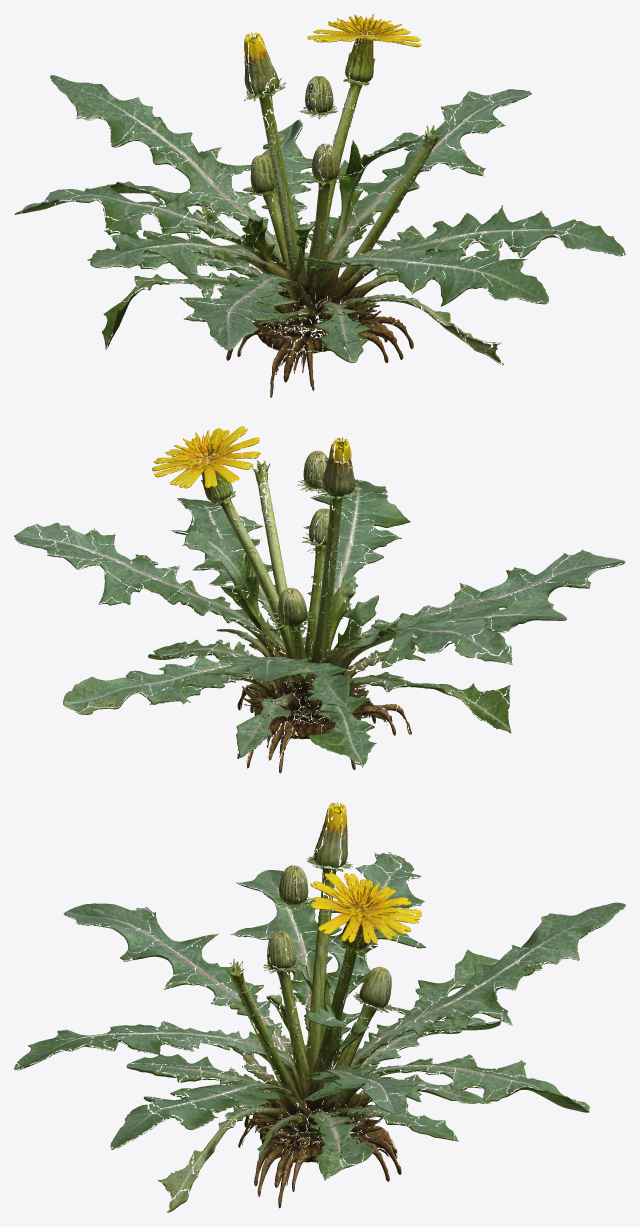
File: hiwa.glb
3 views of the same model, one above another, from view 1: azimuth 30°, elevation 25°; view 2: azimuth 150°, elevation 25°; view 3: azimuth 270°, elevation 25° (orthographic). The views are drawn at different scales.
Visible parts, largest first — view 1: tripo_node_d27f2af4-0191-48f7-b448-dcdf37676518; view 2: tripo_node_d27f2af4-0191-48f7-b448-dcdf37676518; view 3: tripo_node_d27f2af4-0191-48f7-b448-dcdf37676518.
Boxes of the visible parts, x1,y1,x2,y2 form: tripo_node_d27f2af4-0191-48f7-b448-dcdf37676518: (14, 14, 625, 397); tripo_node_d27f2af4-0191-48f7-b448-dcdf37676518: (14, 426, 625, 773); tripo_node_d27f2af4-0191-48f7-b448-dcdf37676518: (14, 802, 625, 1212).
Size of the model in its own units: 0.9805 by 0.6014 by 0.9825.
Materials: 1 (1 with a texture image).
